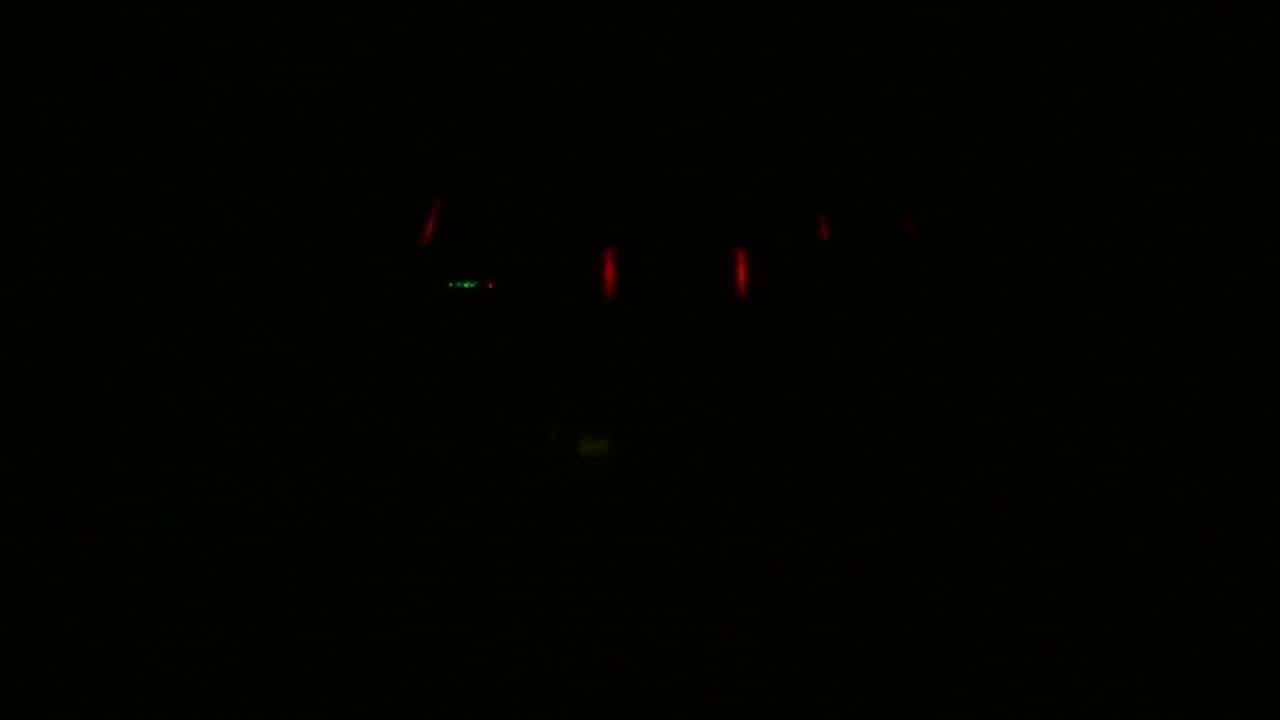pair1: (600, 238, 750, 299)
